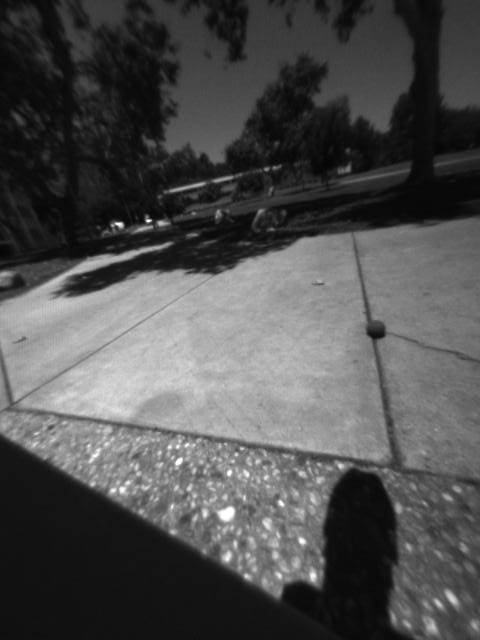dogtoy: (363, 316, 396, 345)
